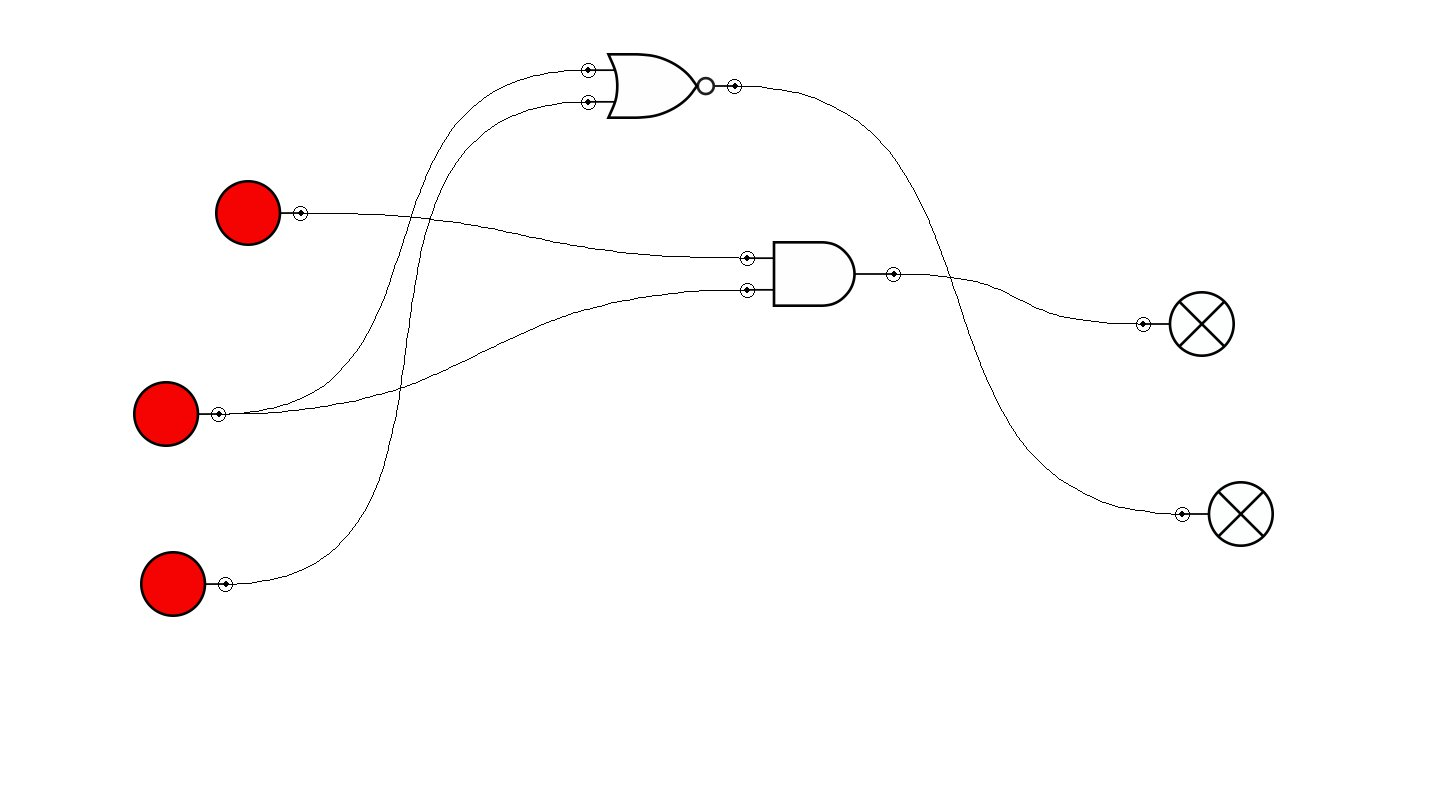and: (740, 241, 901, 307)
bulb: (1136, 291, 1235, 357), (1175, 481, 1274, 547)
nor: (581, 53, 742, 119)
switch_False: (133, 381, 226, 447), (215, 180, 308, 246), (140, 551, 233, 617)
